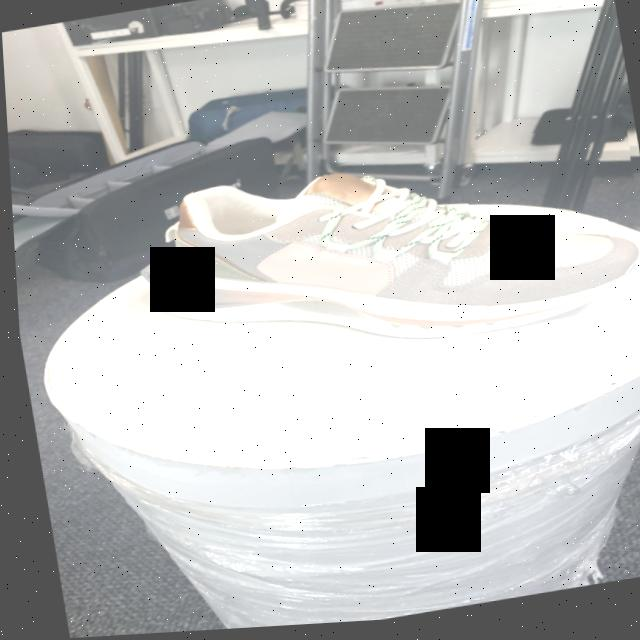shoe: (120, 121, 640, 388)
